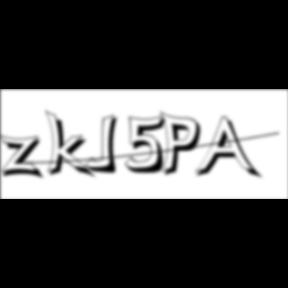5: (124, 114, 171, 176)
A: (194, 116, 264, 182)
J: (86, 114, 124, 176)
P: (160, 110, 207, 180)
k: (44, 108, 98, 181)
z: (0, 134, 48, 182)
